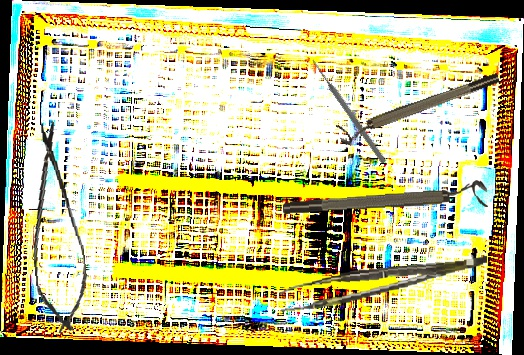Fixation Ring: (335, 70, 504, 147), (281, 179, 489, 218)
Micro Scissor: (19, 116, 93, 339)
Pusher: (309, 57, 388, 165)
Tissue Forceps: (277, 256, 491, 312)
